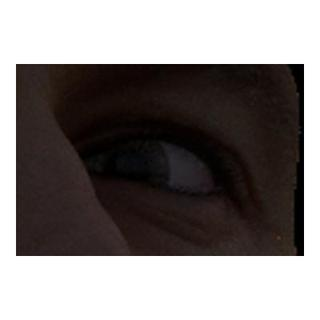pupil: (105, 149, 149, 193)
